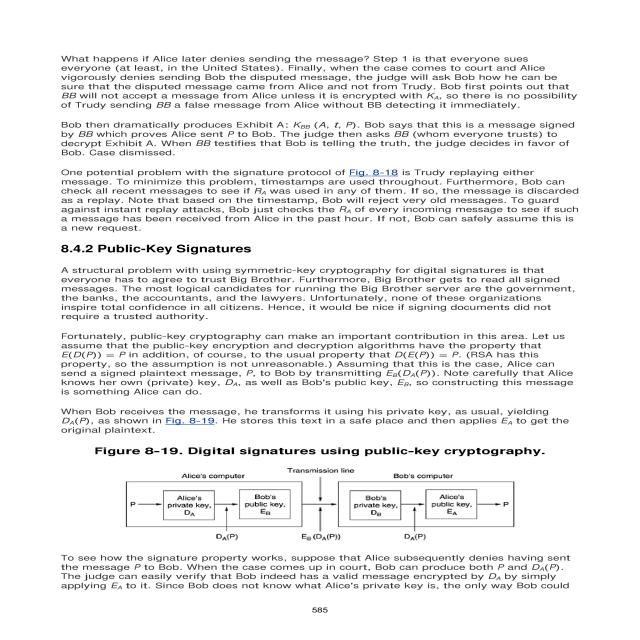diagram: (66, 440, 558, 544)
